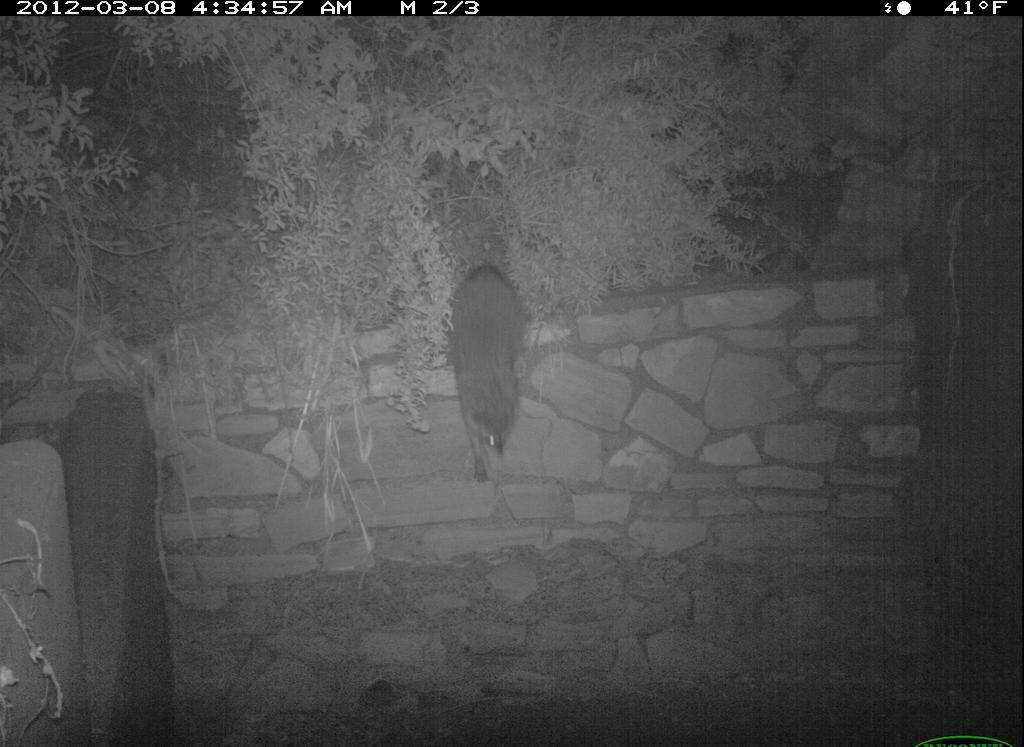raccoon: (433, 249, 536, 489)
